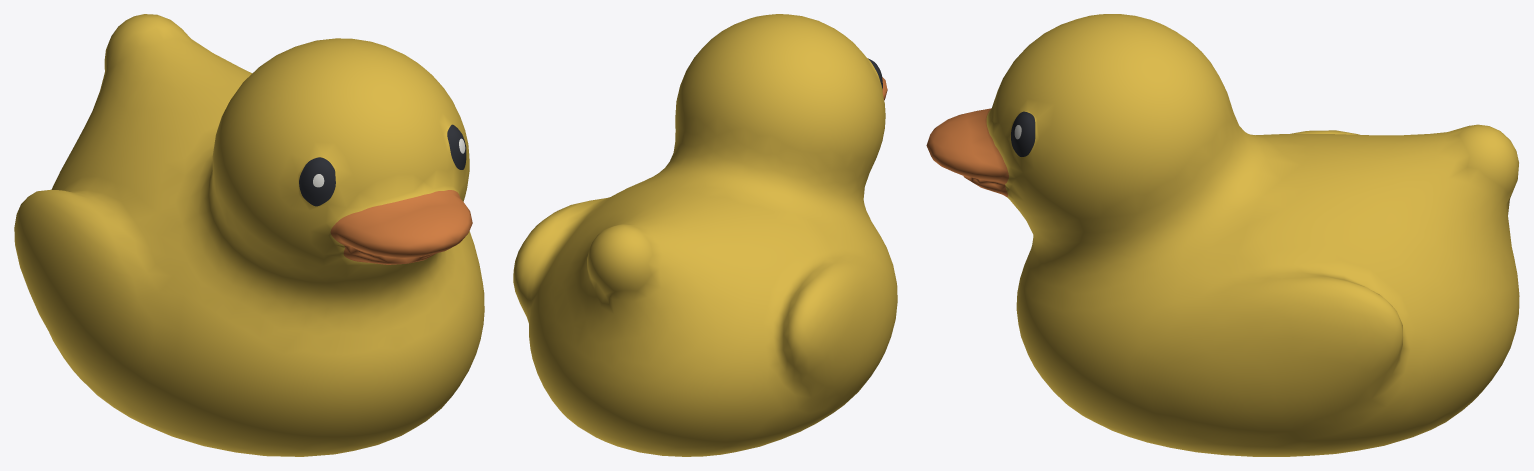
The model's file is items_upload_duck3.glb.
3 views of the same model, side by side, from view 1: azimuth 30°, elevation 25°; view 2: azimuth 150°, elevation 25°; view 3: azimuth 270°, elevation 25° (orthographic). The views are drawn at different scales.
Visible parts, largest first — view 1: duck_body__pd6b445, duck_beak__pc9773d, duck_eye__p2b2d33; view 2: duck_body__pd6b445; view 3: duck_body__pd6b445, duck_beak__pc9773d, duck_eye__p2b2d33.
Boxes of the visible parts, x1,y1,x2,y2 form: duck_body__pd6b445: (14, 14, 484, 456); duck_beak__pc9773d: (330, 190, 472, 264); duck_eye__p2b2d33: (299, 124, 466, 206); duck_body__pd6b445: (513, 14, 897, 456); duck_body__pd6b445: (986, 14, 1519, 456); duck_beak__pc9773d: (926, 108, 1008, 196); duck_eye__p2b2d33: (1011, 111, 1035, 156).
Bounding box in the file's own units: 4.2 × 4.31 × 5.9.
